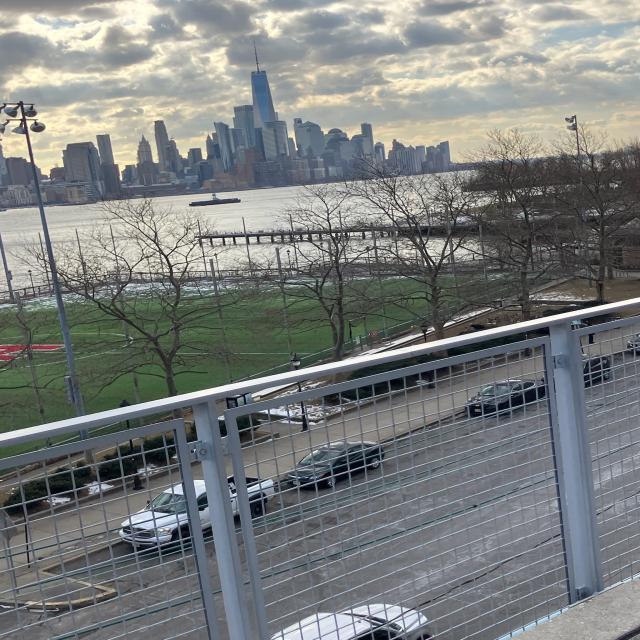WTC: (246, 39, 277, 125)
